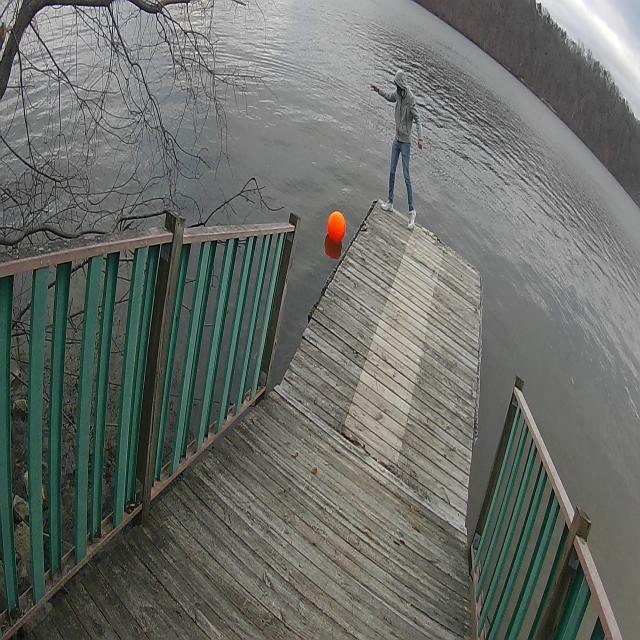Buoy: (328, 209, 346, 246)
